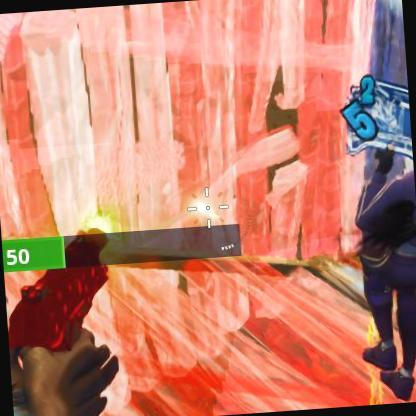person: (348, 133, 416, 401)
